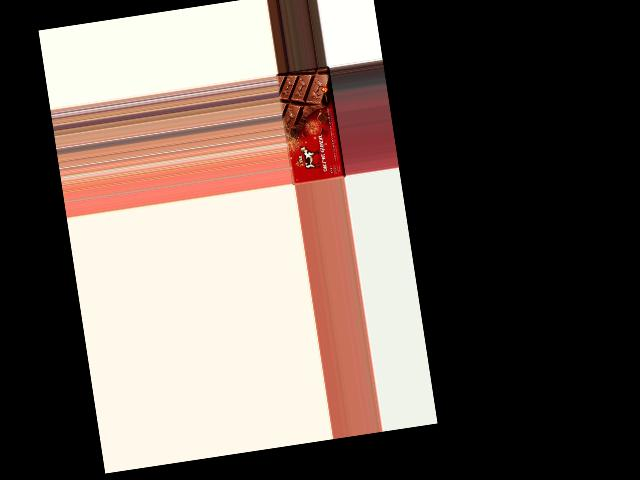chocolate: (276, 66, 345, 186)
